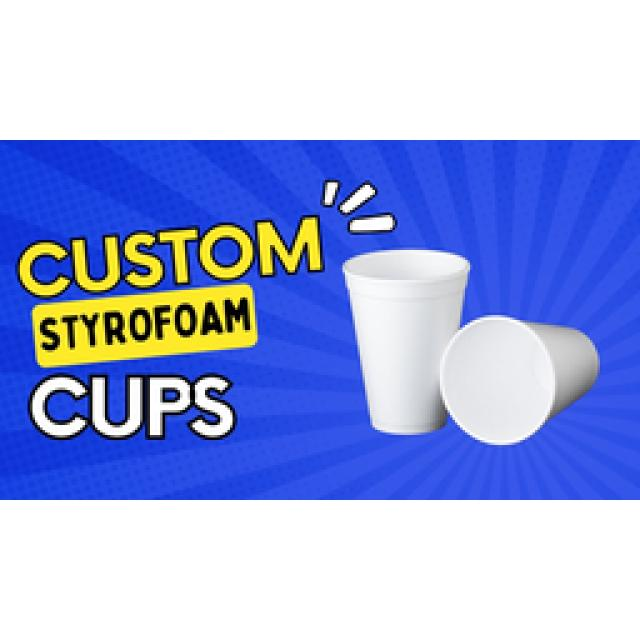styrofoam: (342, 250, 598, 442)
